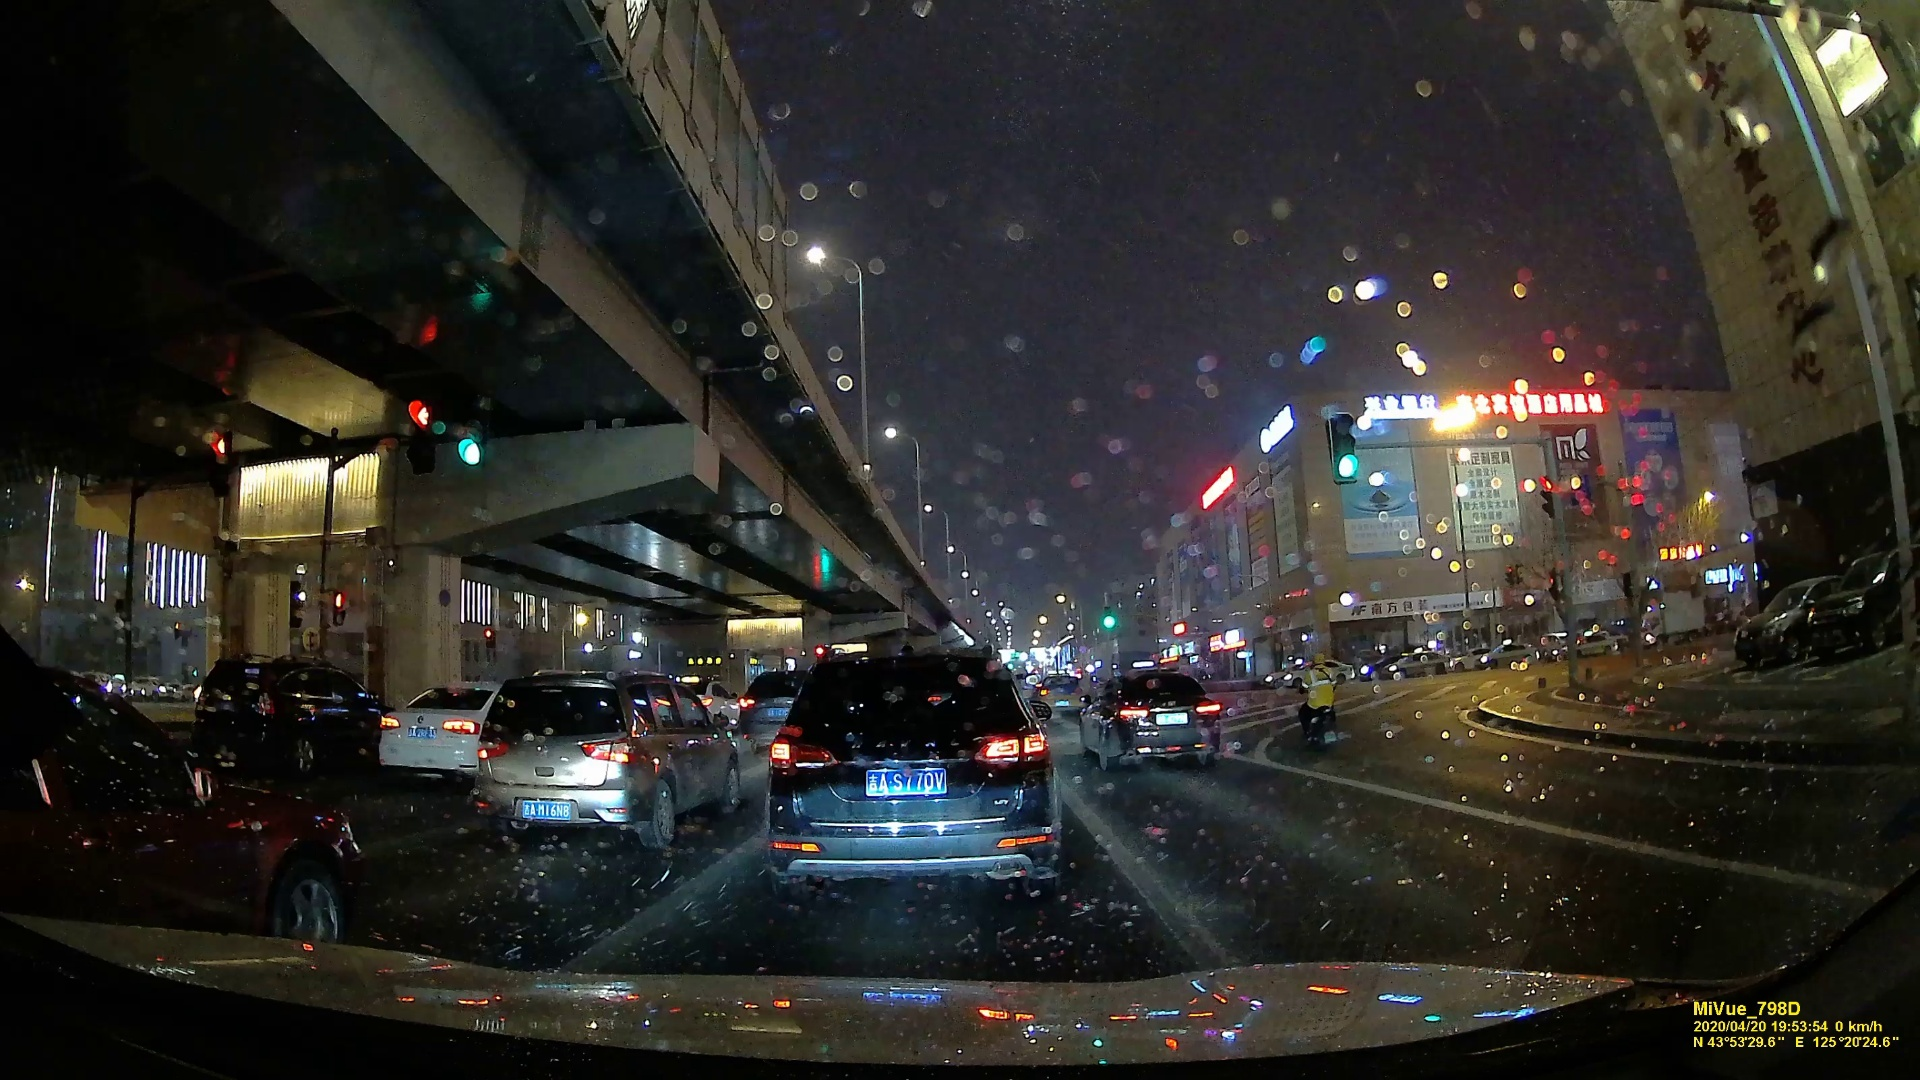person: (1305, 656, 1333, 720)
traffic_sign: (402, 396, 441, 471), (456, 392, 490, 467), (1328, 412, 1359, 483), (289, 584, 310, 629), (327, 589, 350, 627), (1102, 604, 1116, 629)
vehicle: (754, 648, 1052, 906), (454, 666, 746, 858), (179, 651, 390, 767), (1073, 670, 1228, 769), (381, 685, 483, 779), (736, 672, 799, 733)
